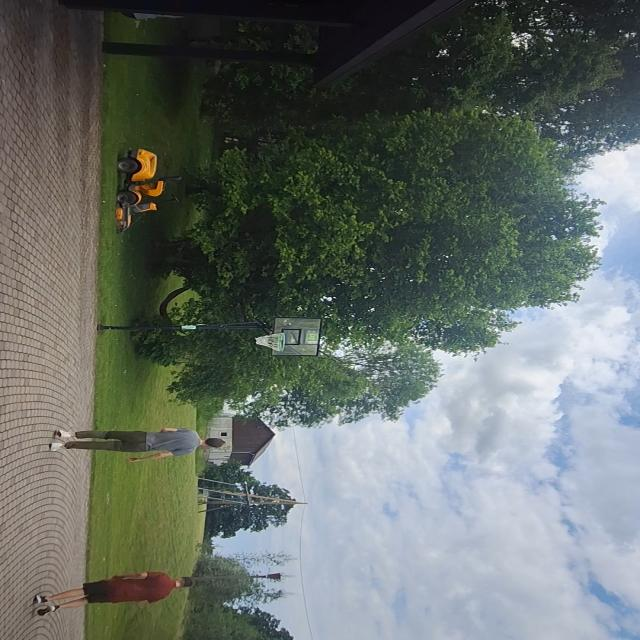hoop: (252, 331, 287, 354)
player: (31, 570, 194, 618), (49, 423, 224, 465)
